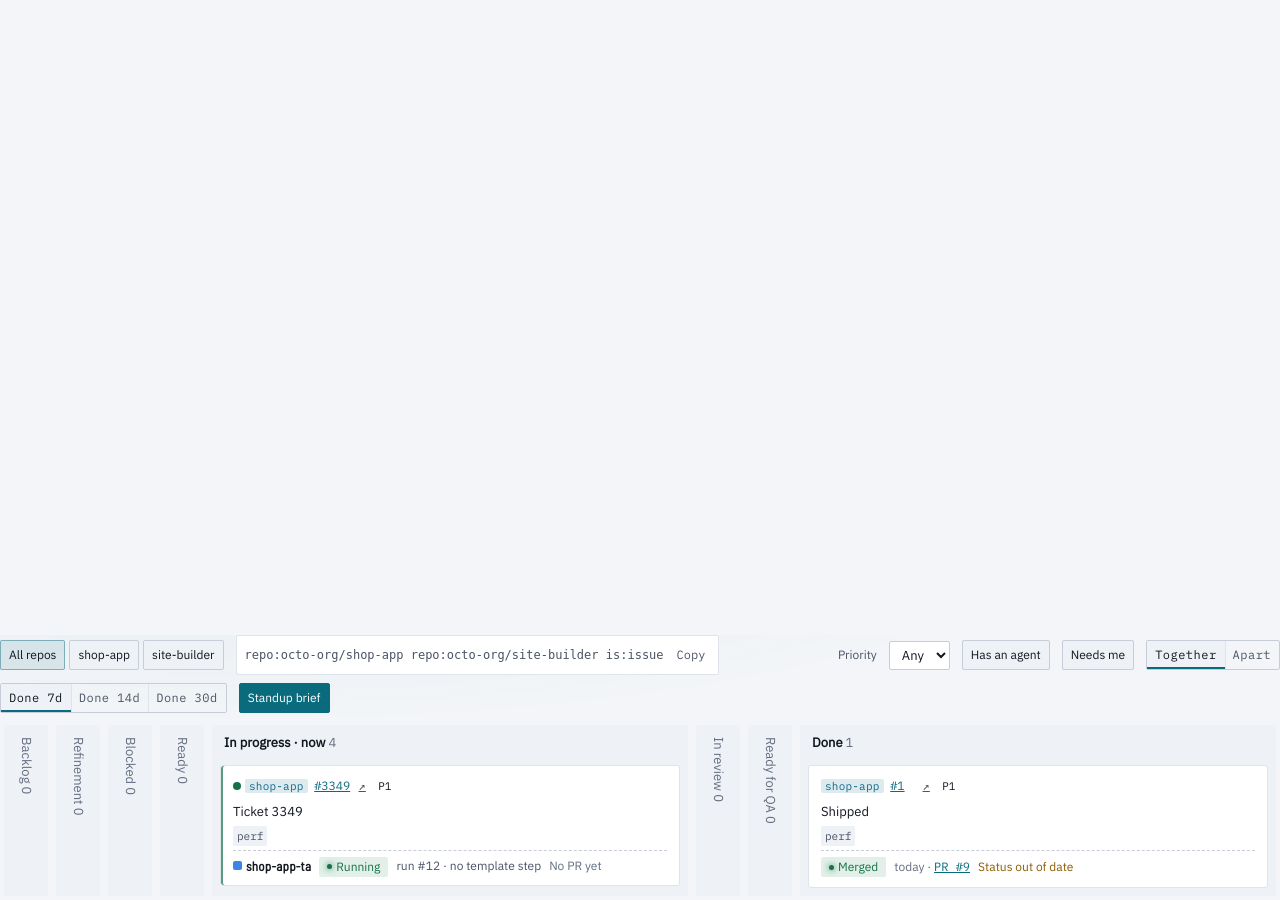
it: brief modal › opens the standup, switches to the weekly update, copies, and Esc closes it
(page scrolled)
Expected: the element showing "Backlog 0" is shown, [4,725,48,896]
Expected: the link "Shipped" is shown, [821,803,869,820]
Click the button "Standup brief" at (284, 698), box [239,683,330,713]
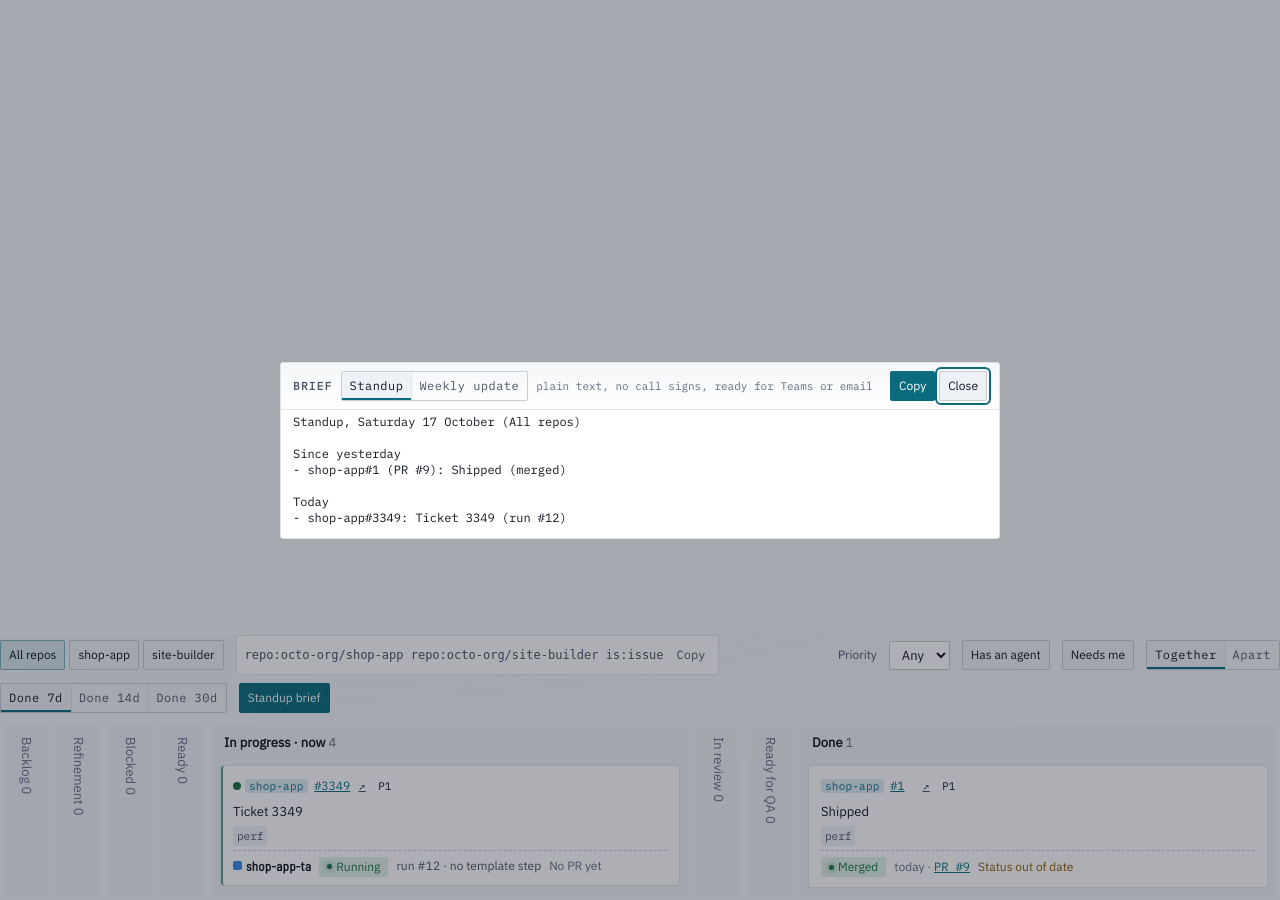
Expected: the text "shop-app-ta" is not shown
Click the button "Weekly update" at (469, 386), box [411,372,527,400]
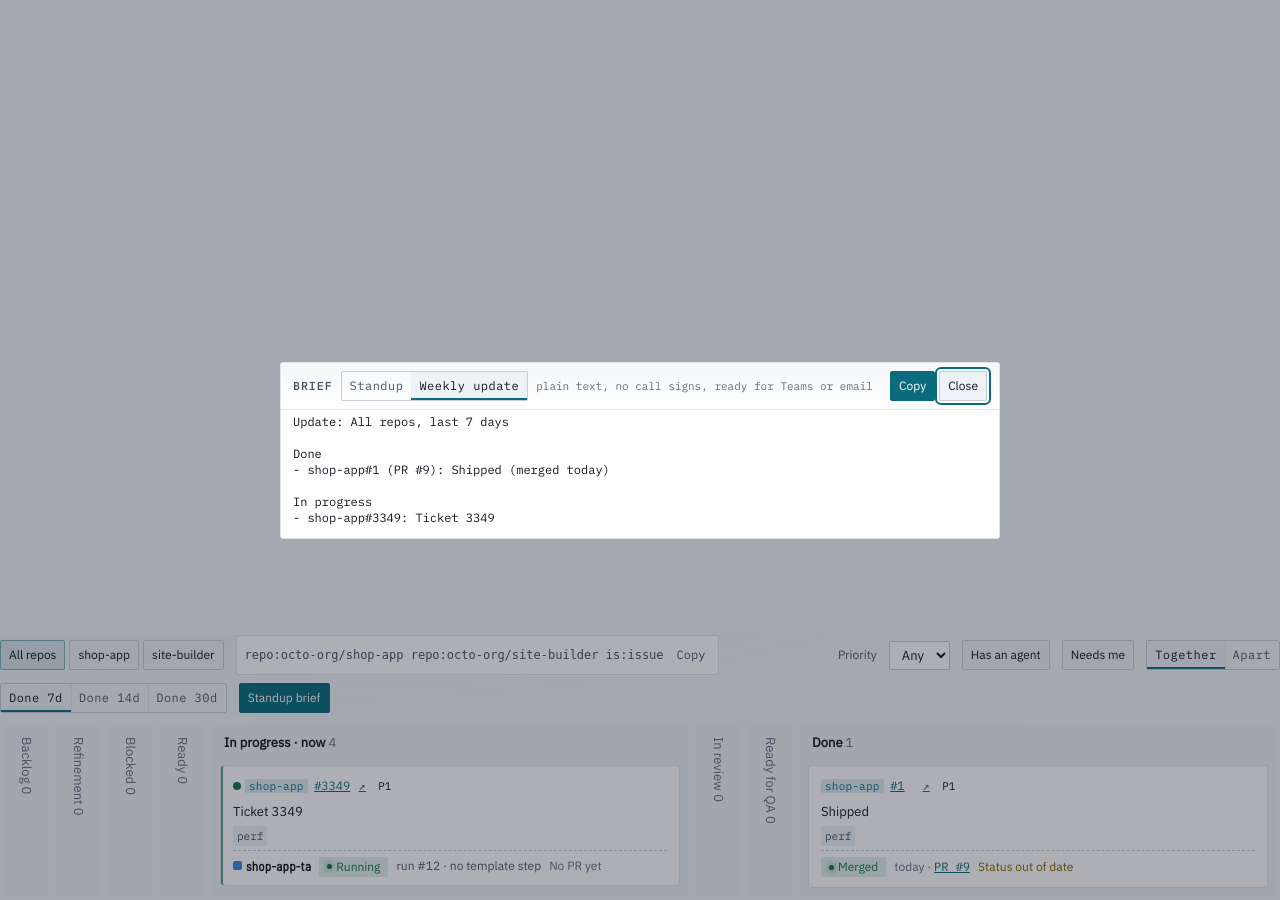
Click the button "Copy" at (913, 386), box [890,370,935,400]
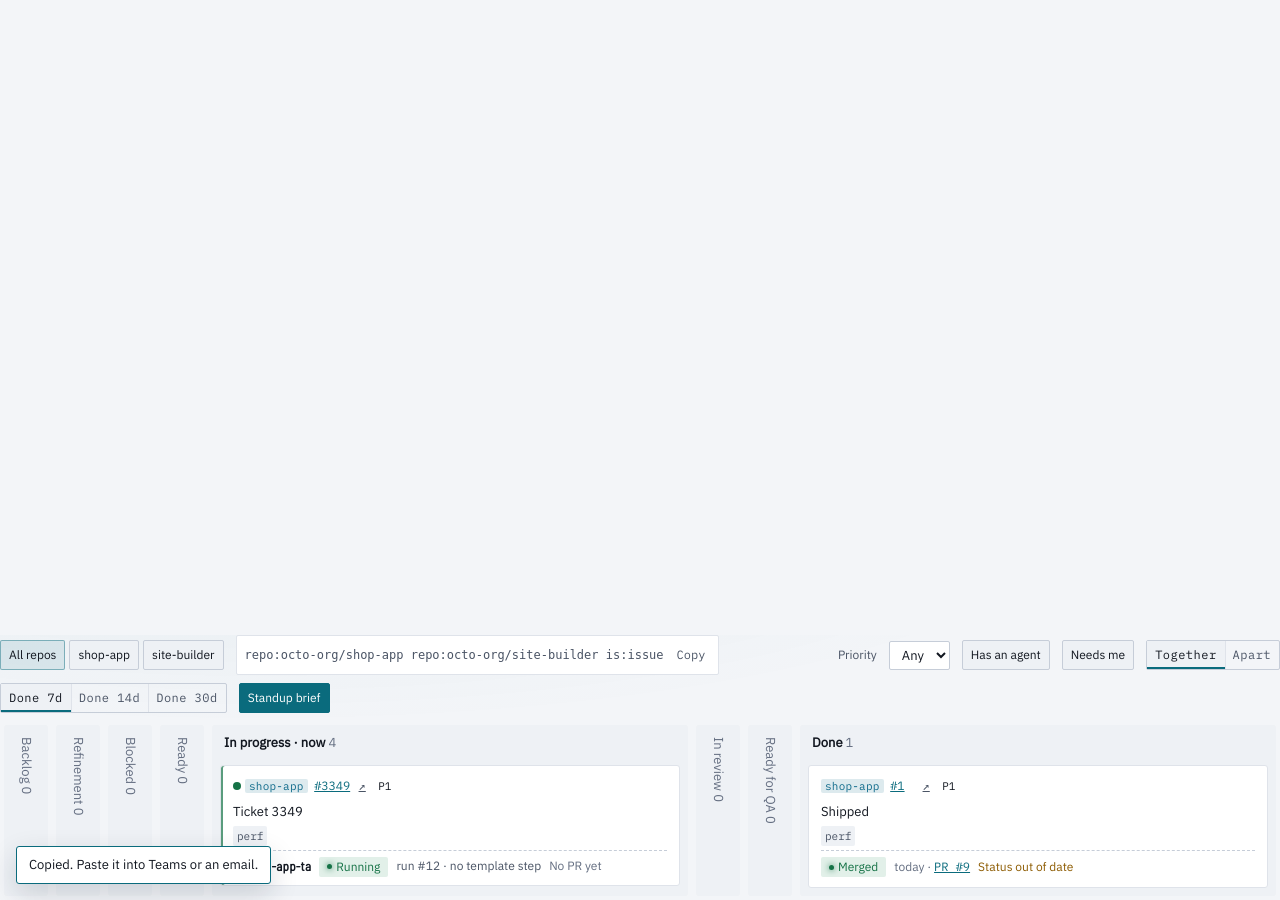
Now the message reads "Copied. Paste it into Teams or an email.", box [29,856,258,873]
